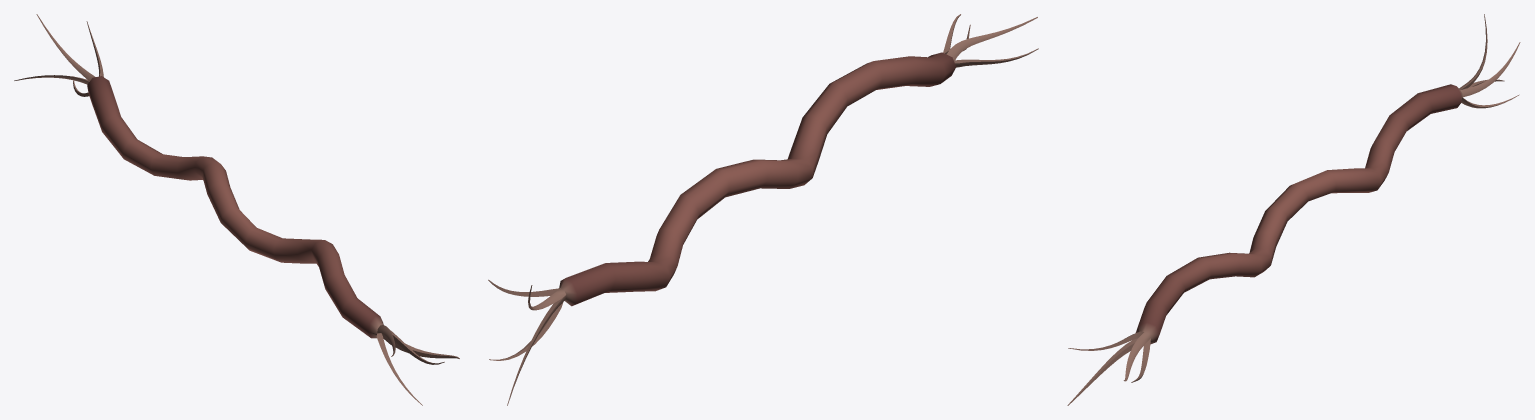
Rendered from microscopic-bacteria-twisted-bacterium_v2.glb.
3 views of the same model, side by side, from view 1: azimuth 30°, elevation 25°; view 2: azimuth 150°, elevation 25°; view 3: azimuth 330°, elevation 25° (orthographic). The views are drawn at different scales.
Parts seen in each view (by area): view 1: Twisted Bacterium_v2; view 2: Twisted Bacterium_v2; view 3: Twisted Bacterium_v2.
Boxes of the visible parts, <box> form: Twisted Bacterium_v2: <box>14,14,459,405</box>; Twisted Bacterium_v2: <box>488,14,1038,405</box>; Twisted Bacterium_v2: <box>1067,14,1520,405</box>.
Bounding box in the file's own units: 0.0195 × 0.0257 × 0.2.
